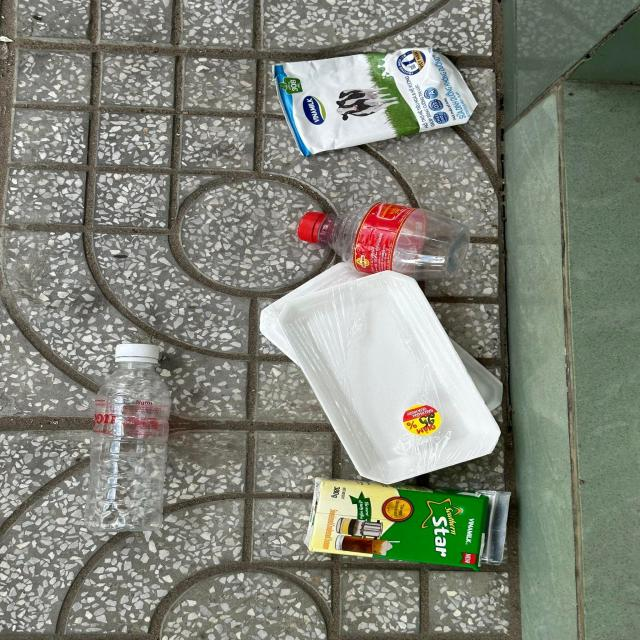bottle: (85, 343, 174, 530), (296, 201, 471, 279)
cardboard box: (302, 476, 510, 572)
foam box: (275, 270, 502, 484)
packet: (272, 46, 480, 157)
